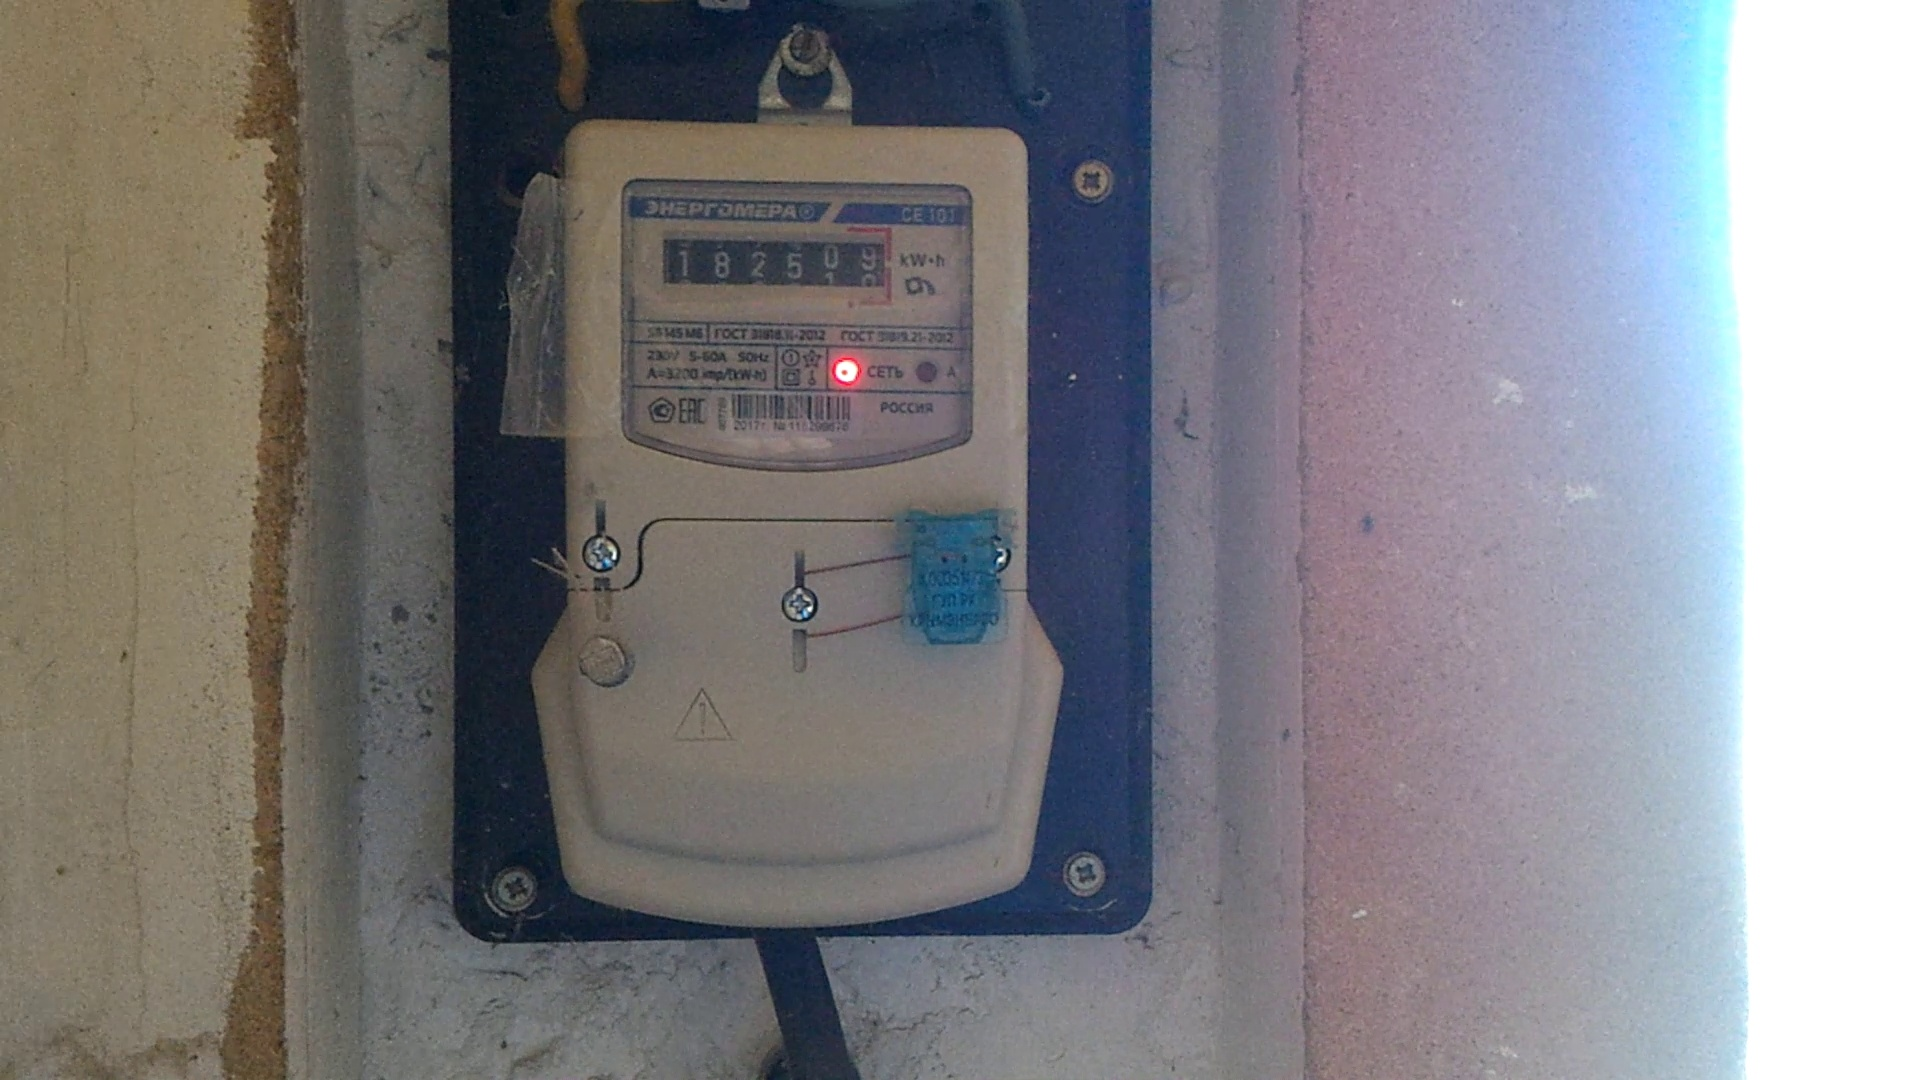counter: (564, 123, 1025, 890)
counter_screen: (659, 233, 887, 291)
